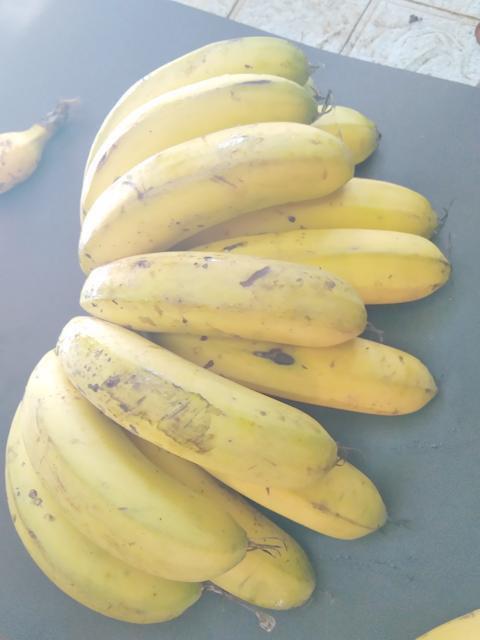ripe: (41, 318, 345, 497), (42, 323, 233, 587), (82, 132, 356, 314), (47, 66, 307, 250), (0, 399, 179, 628), (83, 231, 367, 362), (208, 222, 443, 301)
